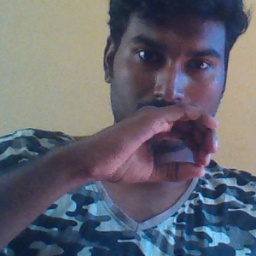O: (76, 99, 224, 190)
